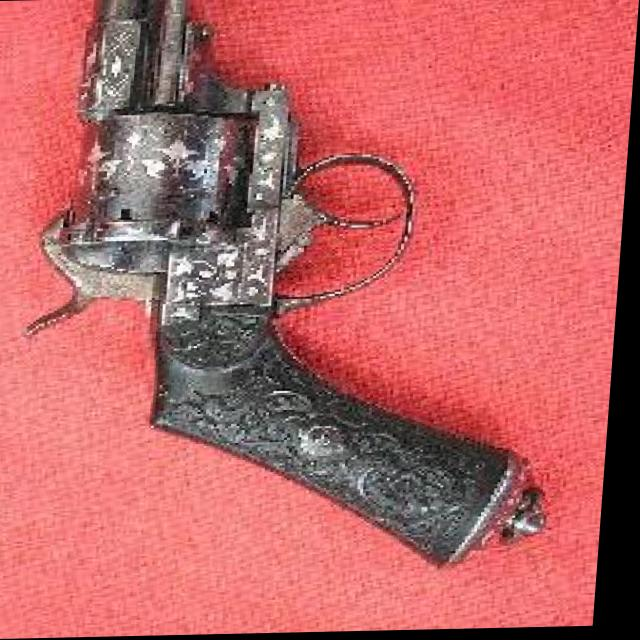handgun: (6, 0, 586, 577)
